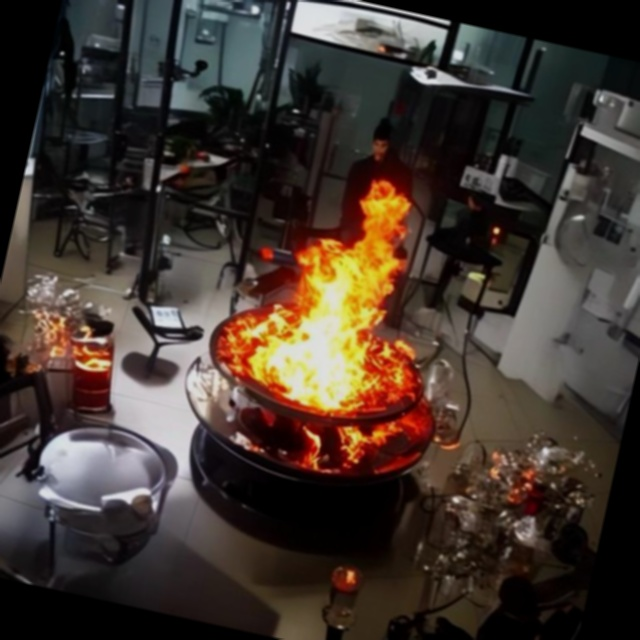fire: (208, 147, 456, 453), (17, 281, 132, 390)
